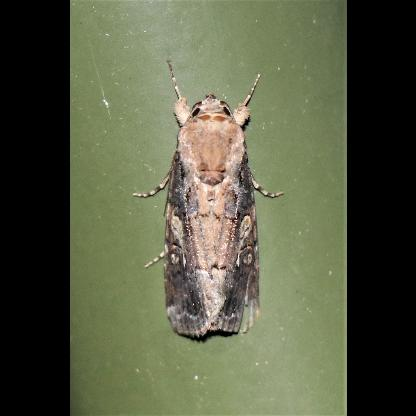Fall Armyworm Moth: (129, 57, 285, 341)
